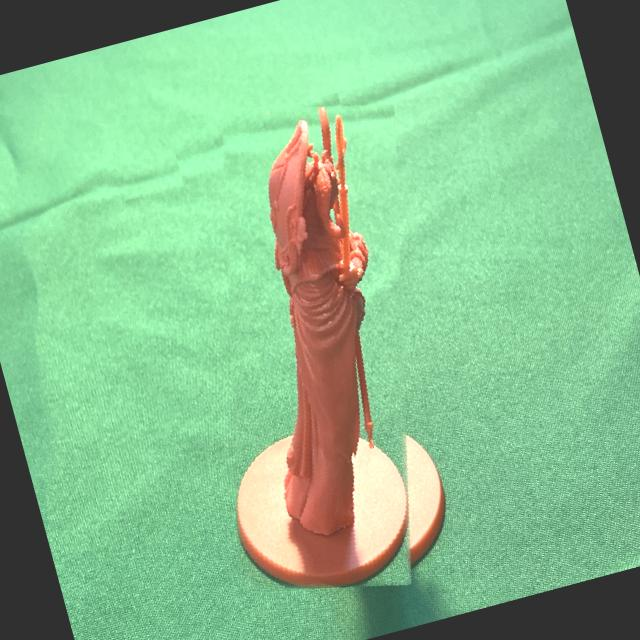amon: (144, 79, 488, 614)
